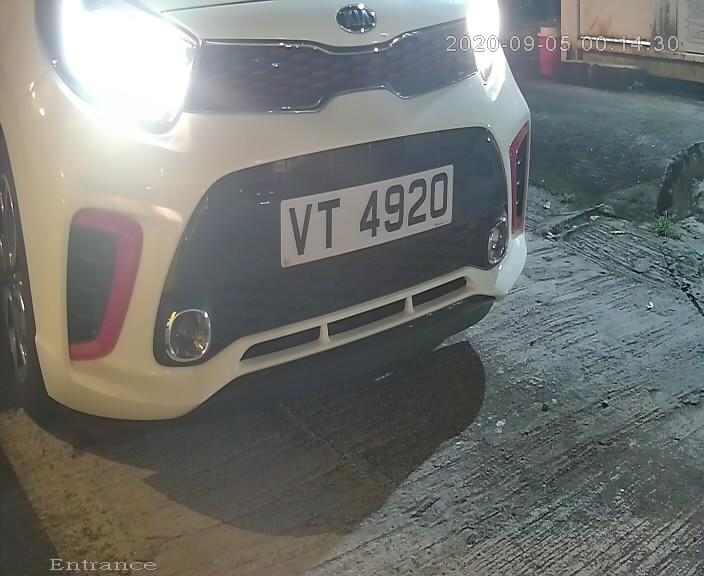License Plate: (262, 150, 485, 278)
